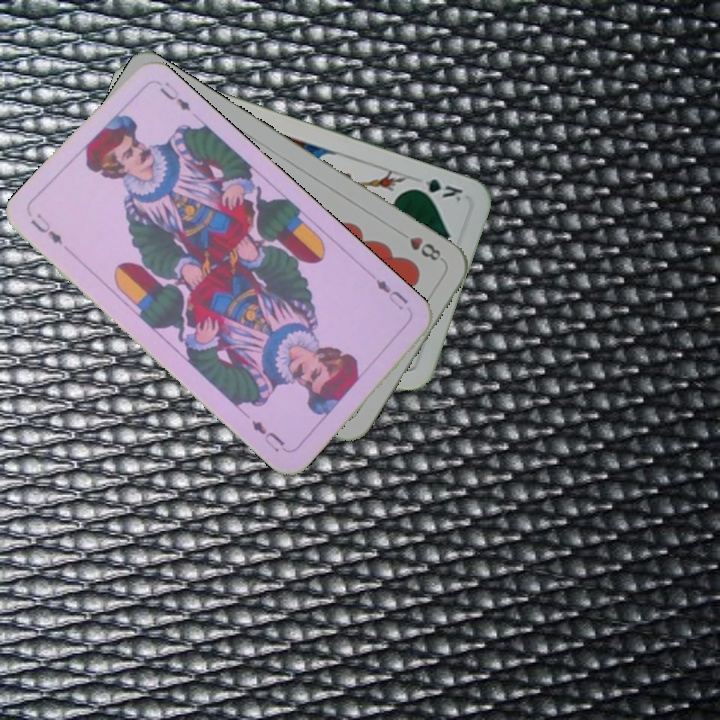EU: (372, 274, 411, 313), (26, 210, 66, 248)
GK: (408, 174, 466, 204)
H8: (394, 226, 446, 264)
